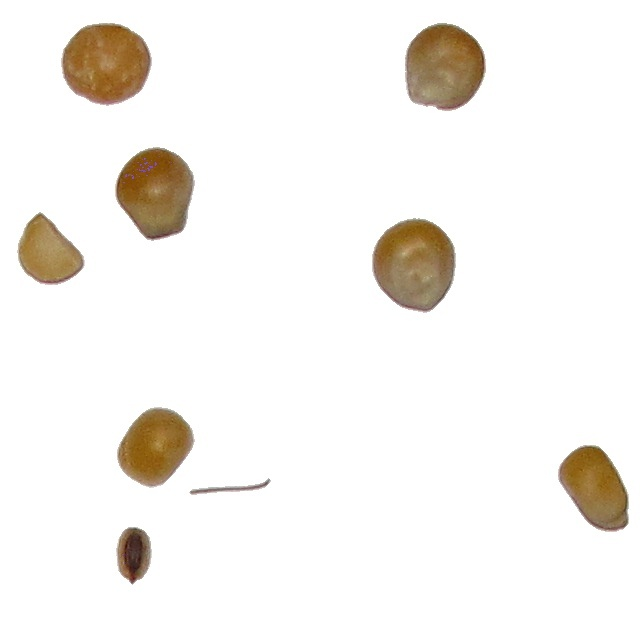buckwheat: (115, 526, 153, 586)
dill: (188, 477, 272, 496)
mais: (371, 217, 457, 314), (60, 22, 153, 107), (114, 146, 196, 242), (404, 22, 487, 112), (116, 406, 196, 489), (557, 444, 630, 533), (16, 211, 86, 286)
